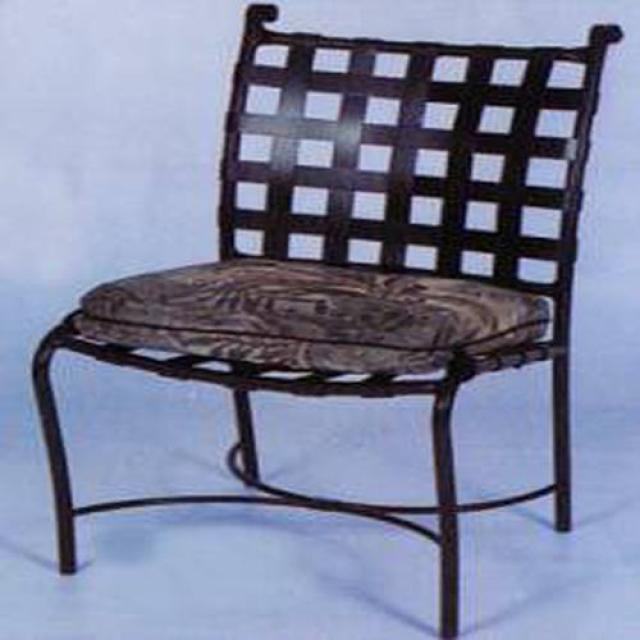chair: (29, 5, 623, 640)
